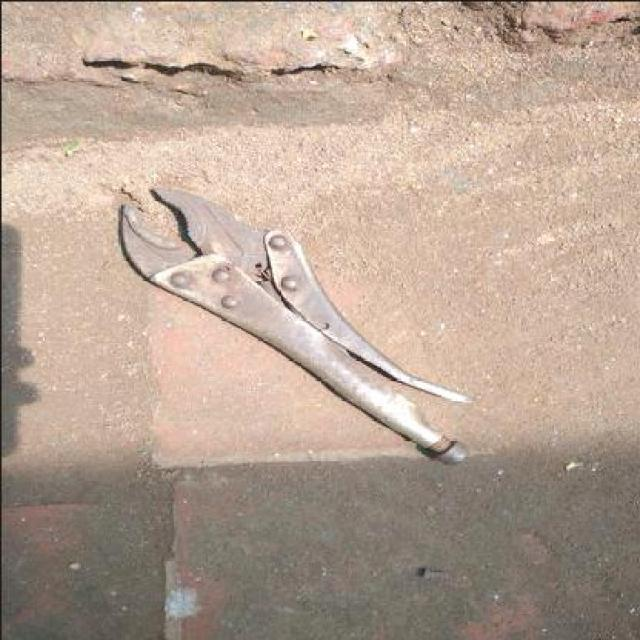pliers: (114, 178, 472, 470)
